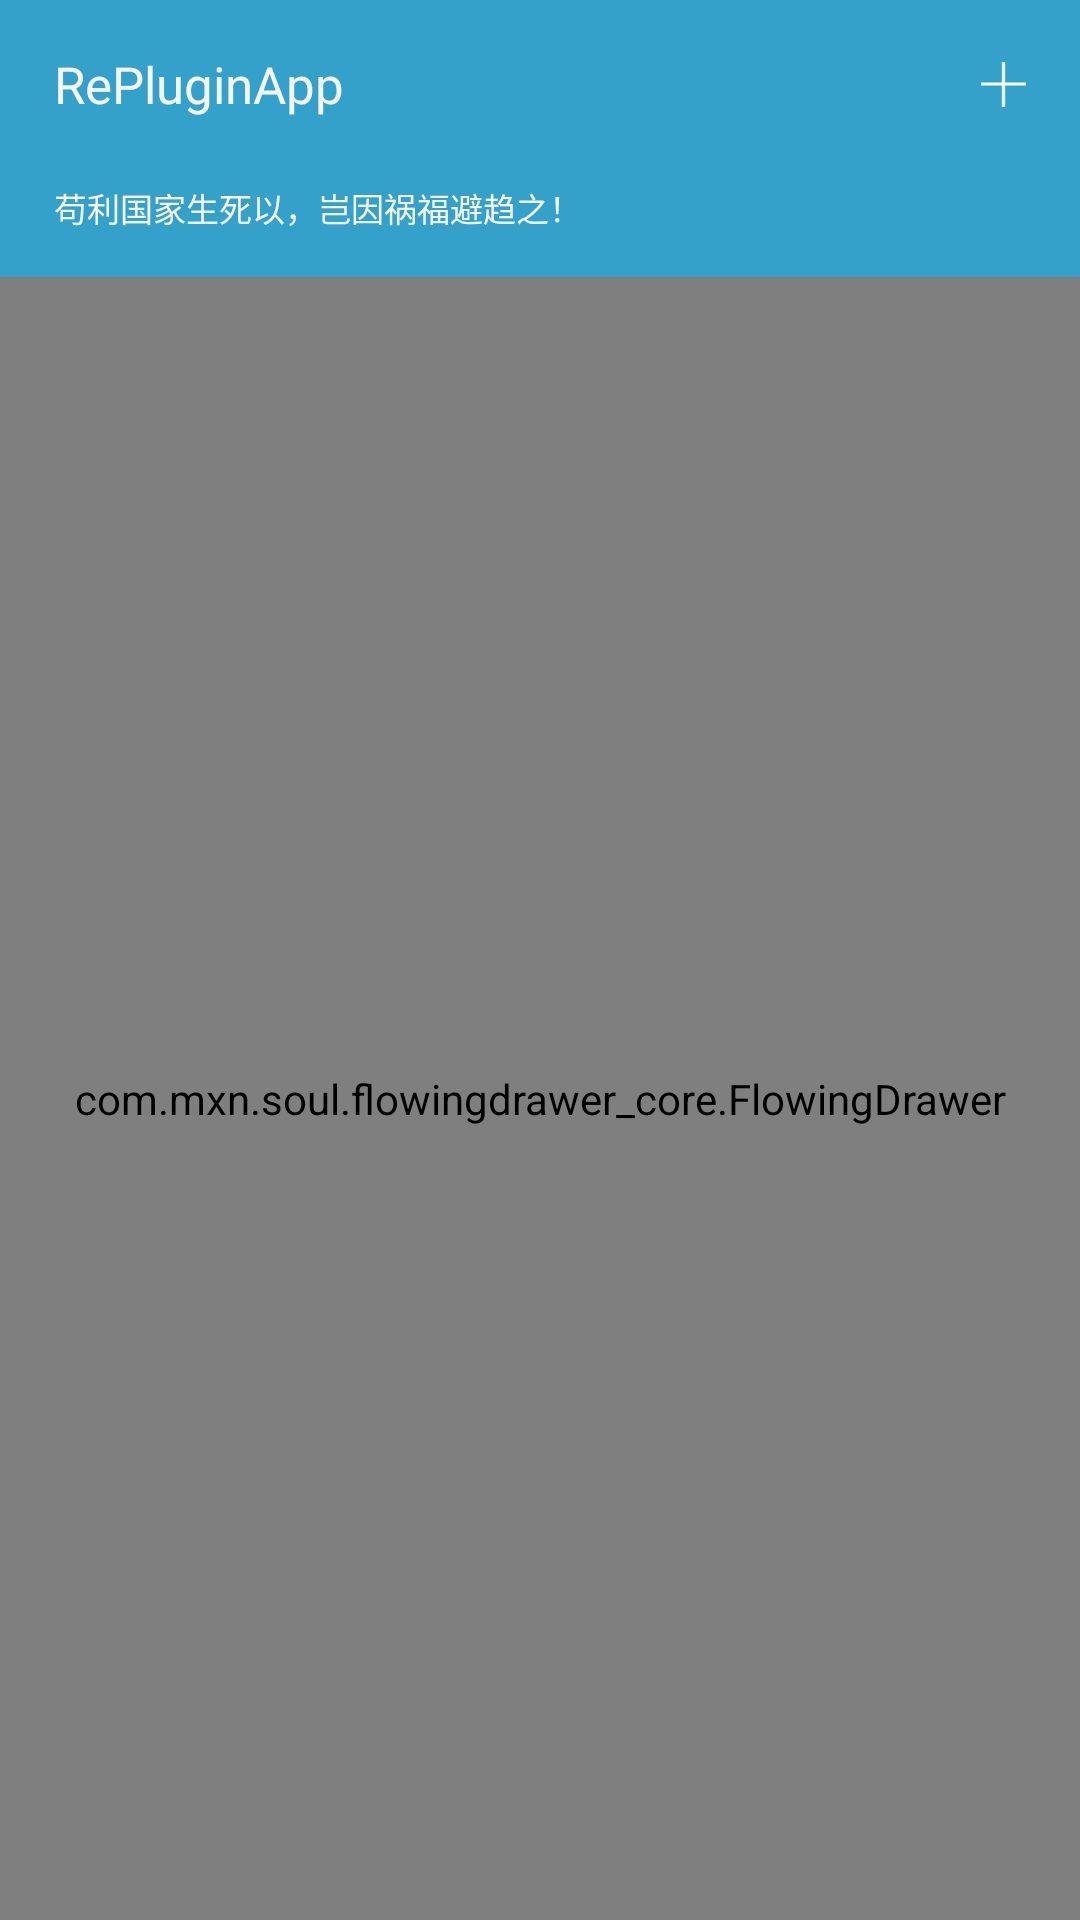

Point at icon controls on the screen. Image size 1080px×1920px, points as [x,y].
add: [1003,84]
